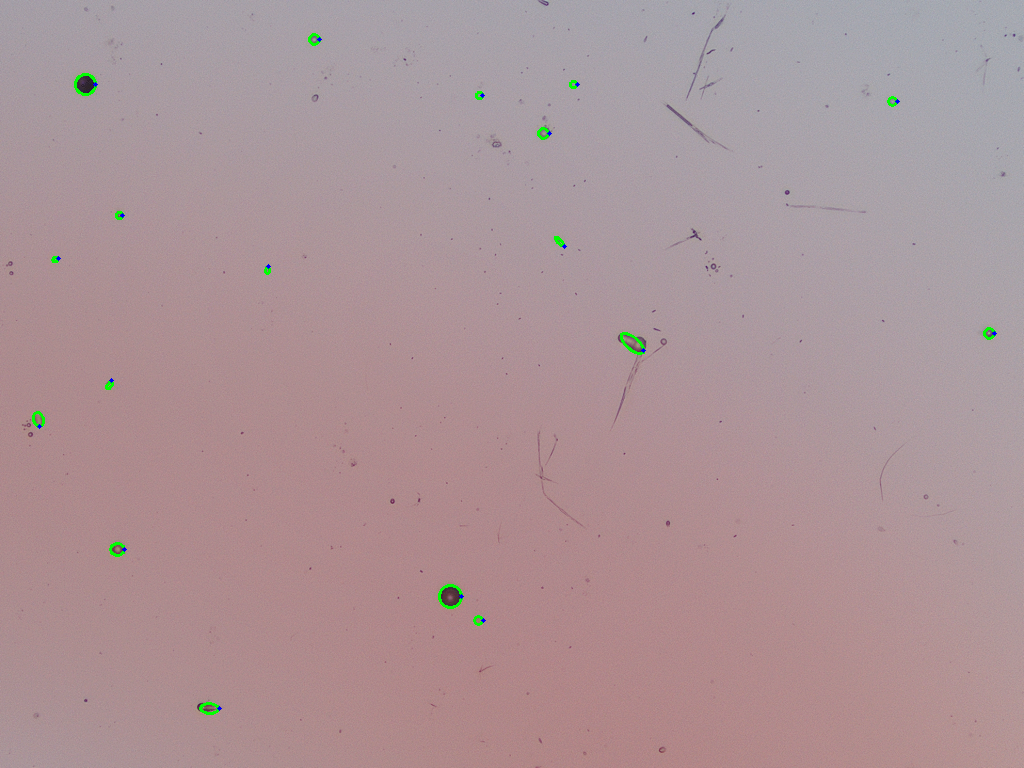circle: (439, 584, 461, 607), (75, 74, 95, 94), (110, 542, 124, 556), (538, 127, 549, 138), (308, 34, 319, 45), (983, 328, 994, 338), (474, 616, 483, 625), (888, 96, 897, 105), (569, 80, 577, 87), (475, 92, 482, 99), (115, 211, 122, 218)
ellipse: (618, 333, 646, 353), (197, 703, 220, 712), (34, 411, 43, 427), (554, 237, 564, 246), (106, 380, 112, 390), (264, 265, 270, 274), (51, 256, 59, 262)
